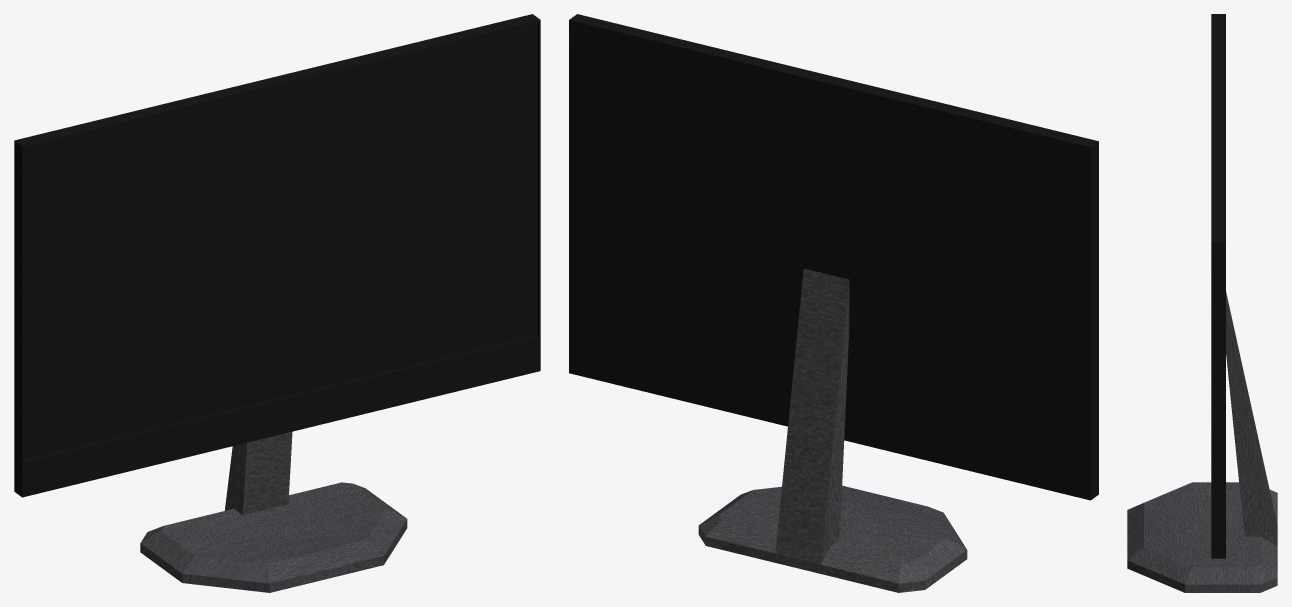
Rendered from 05_monitor2_destructible_power_off.glb.
The picture shows the model from 3 angles, left to right: view 1: azimuth 30°, elevation 25°; view 2: azimuth 150°, elevation 25°; view 3: azimuth 270°, elevation 25°; orthographic projection. The views are drawn at different scales.
Visible parts, largest first — view 1: Power_OffGeometry; view 2: Power_OffGeometry; view 3: Power_OffGeometry.
Boxes of the visible parts, x1,y1,x2,y2 form: Power_OffGeometry: [14, 14, 540, 592]; Power_OffGeometry: [569, 14, 1098, 592]; Power_OffGeometry: [1127, 14, 1277, 592].
Bounding box in the file's own units: 0.5433 × 0.462 × 0.1516.
Materials: 2 (2 with a texture image).
